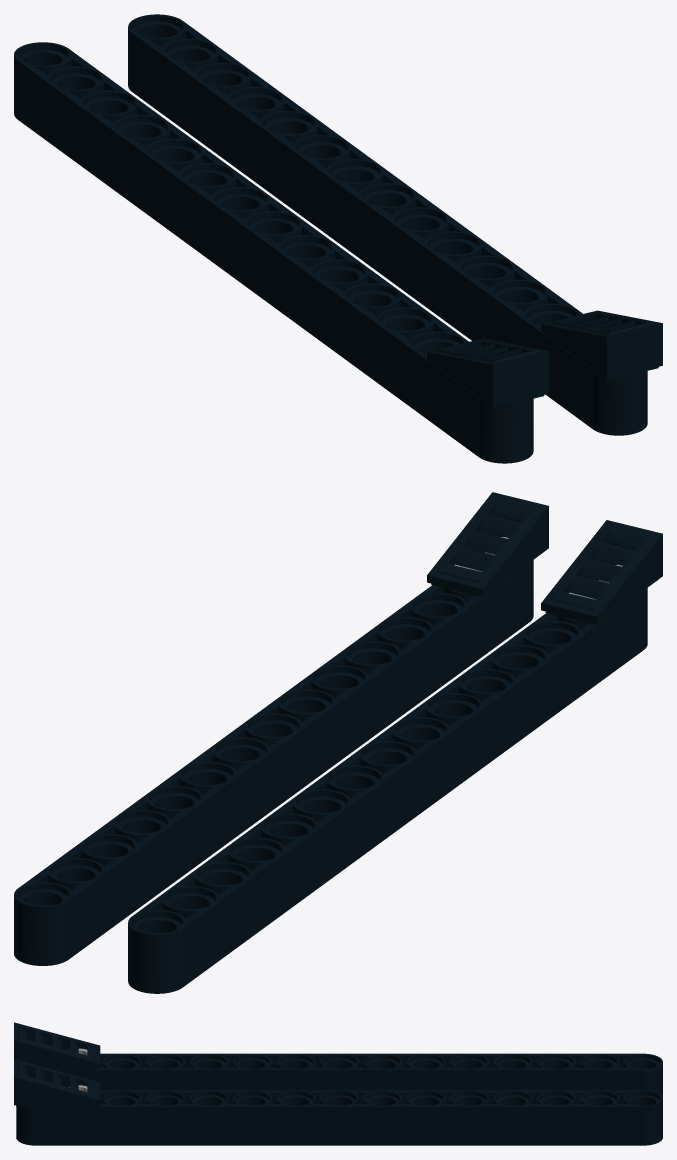
Rendered from static_finger.dae.
3 views of the same model, one above another, from view 1: azimuth 30°, elevation 25°; view 2: azimuth 150°, elevation 25°; view 3: azimuth 270°, elevation 25° (orthographic). The views are drawn at different scales.
Visible parts, largest first — view 1: Inner-Node-Static__Finger__Copy-2 (×2), Inner-Node-Static__Finger__Copy-3 (×2); view 2: Inner-Node-Static__Finger__Copy-2 (×2), Inner-Node-Static__Finger__Copy-3 (×2); view 3: Inner-Node-Static__Finger__Copy-2 (×2), Inner-Node-Static__Finger__Copy-3 (×2).
Part boxes in pixels (box(x1,y1,x2,y2)): Inner-Node-Static__Finger__Copy-2 (×2): box(14, 14, 647, 463); Inner-Node-Static__Finger__Copy-3 (×2): box(427, 310, 662, 408); Inner-Node-Static__Finger__Copy-2 (×2): box(14, 560, 647, 993); Inner-Node-Static__Finger__Copy-3 (×2): box(427, 492, 662, 624); Inner-Node-Static__Finger__Copy-2 (×2): box(16, 1053, 662, 1145); Inner-Node-Static__Finger__Copy-3 (×2): box(14, 1022, 100, 1106).
Bounding box in the file's own units: 59.75 × 35.23 × 299.
